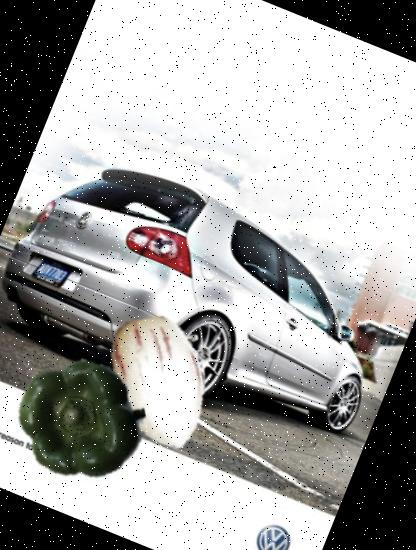Pepino: (71, 297, 244, 470)
Pepper: (0, 336, 164, 503)
